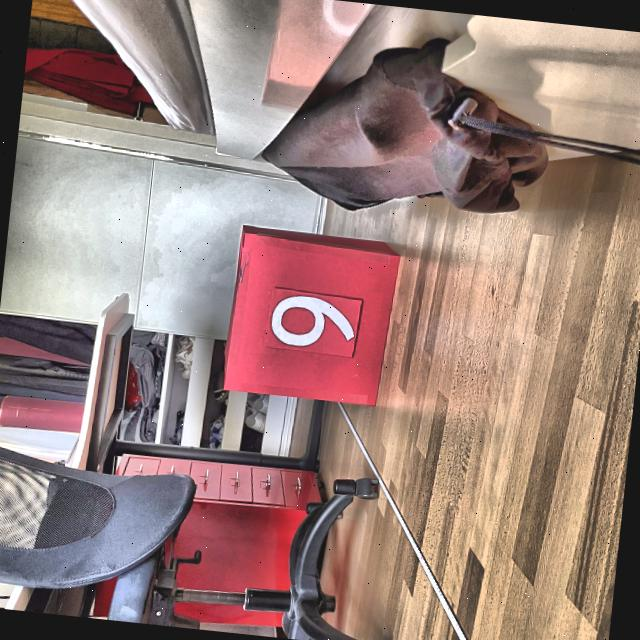nine: (267, 290, 360, 354)
red box: (223, 221, 402, 407)
